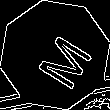M_NW: (21, 22, 89, 88)
